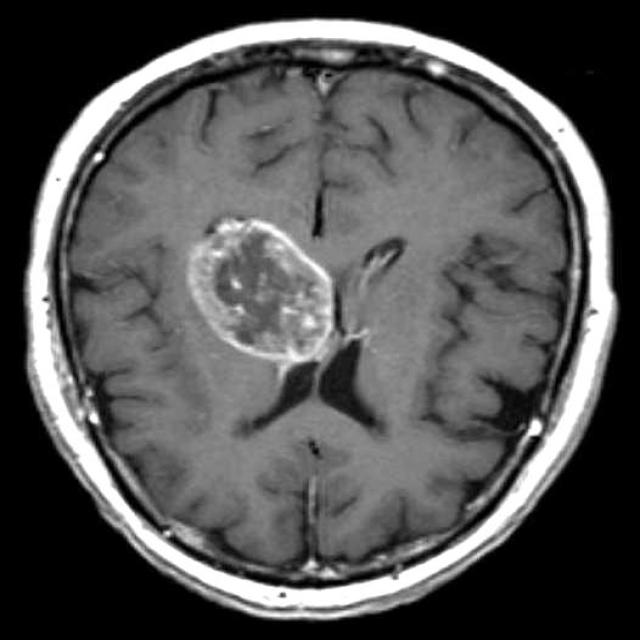Tumor-Cell: (173, 216, 346, 376)
